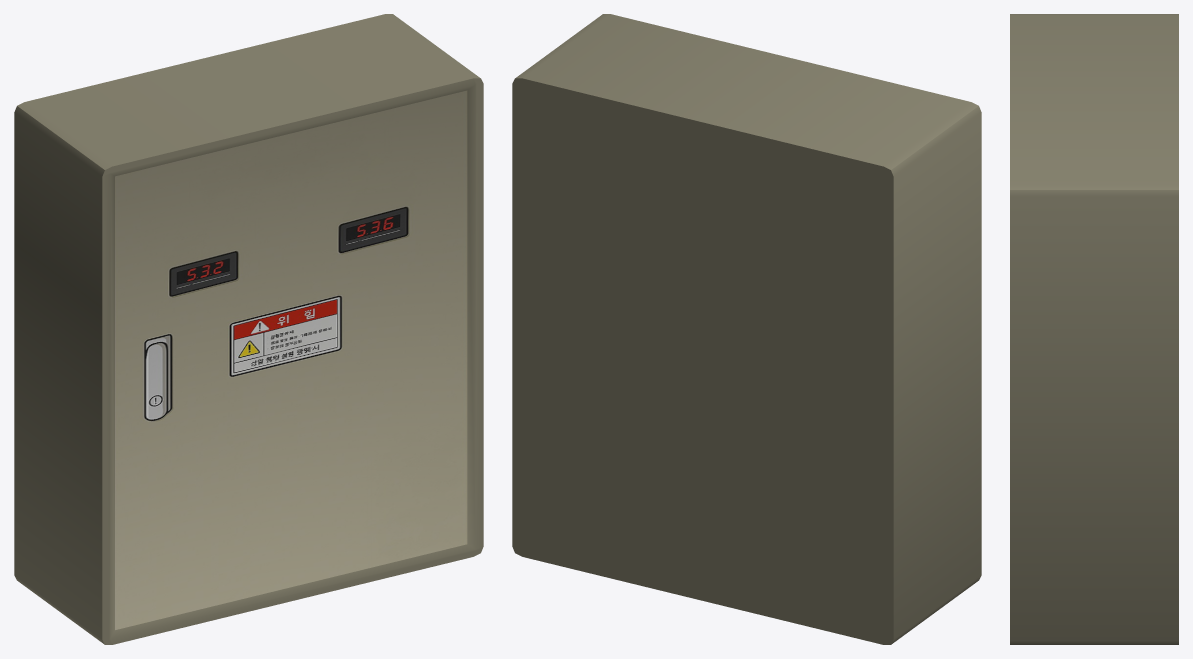
3 views of the same model, side by side, from view 1: azimuth 30°, elevation 25°; view 2: azimuth 150°, elevation 25°; view 3: azimuth 270°, elevation 25° (orthographic). The views are drawn at different scales.
Visible parts, largest first — view 1: RM1-WH06W050D020; view 2: RM1-WH06W050D020; view 3: RM1-WH06W050D020.
Boxes of the visible parts, left/top/right/bottom form: RM1-WH06W050D020: left=14, top=14, right=483, bottom=644; RM1-WH06W050D020: left=512, top=14, right=981, bottom=644; RM1-WH06W050D020: left=1010, top=14, right=1178, bottom=644.
Size of the model in its own units: 0.5 by 0.6 by 0.2.
Materials: 2 (1 with a texture image).
